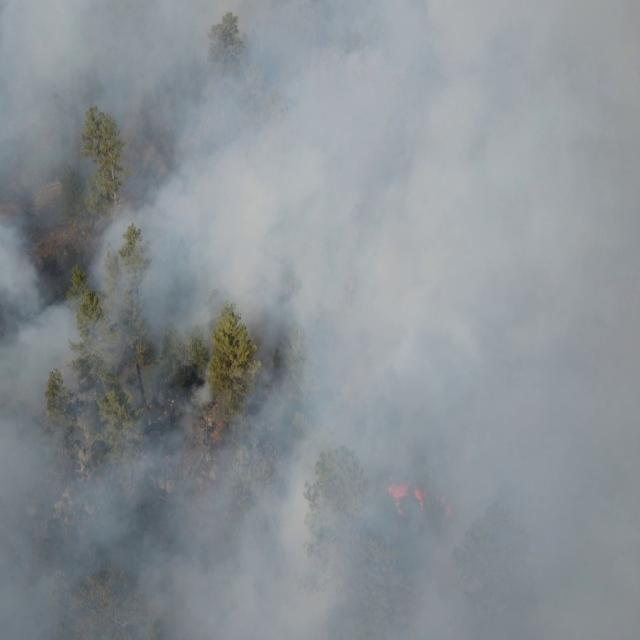fire: (385, 481, 426, 515), (438, 490, 458, 518)
smoke: (0, 2, 640, 640)
